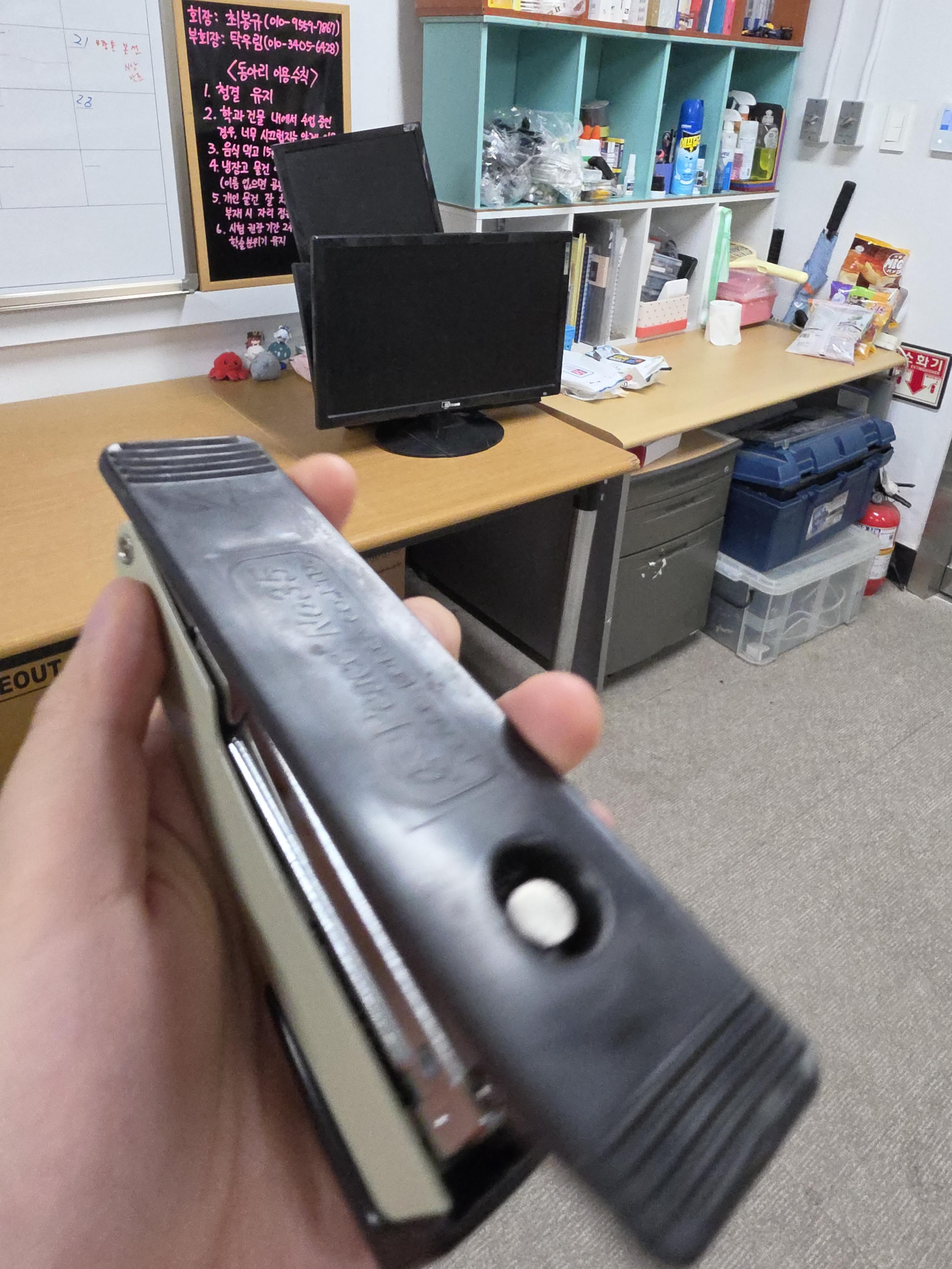stapler: (97, 436, 824, 1268)
tissue: (639, 278, 692, 340), (708, 299, 743, 346)
